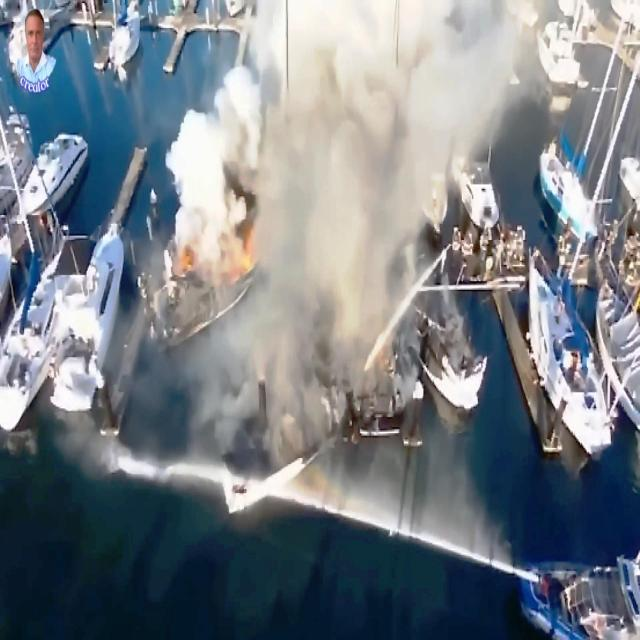Smoke: (248, 16, 386, 210), (176, 81, 247, 268)
